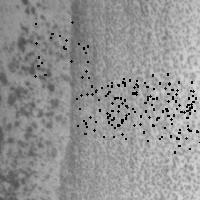pitted_surface: (77, 1, 199, 200), (9, 1, 61, 197), (76, 78, 136, 138), (86, 77, 145, 136), (146, 81, 200, 140), (133, 73, 192, 127), (34, 21, 87, 76), (170, 97, 200, 156)
